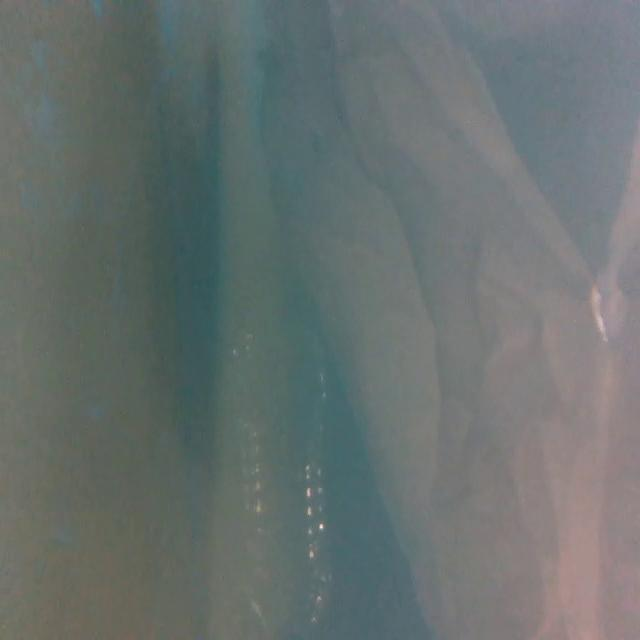plastic bags: (309, 7, 640, 616)
plastic bottle: (218, 314, 336, 640)
